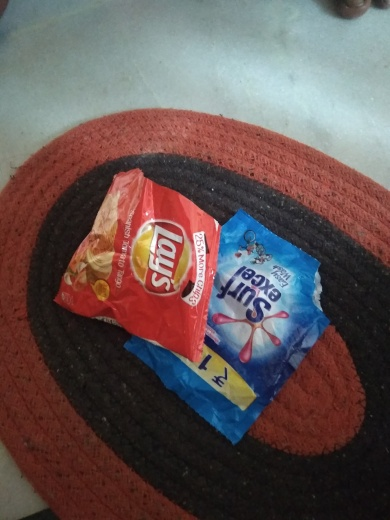lays: (52, 163, 217, 358)
surf: (117, 220, 338, 435)
